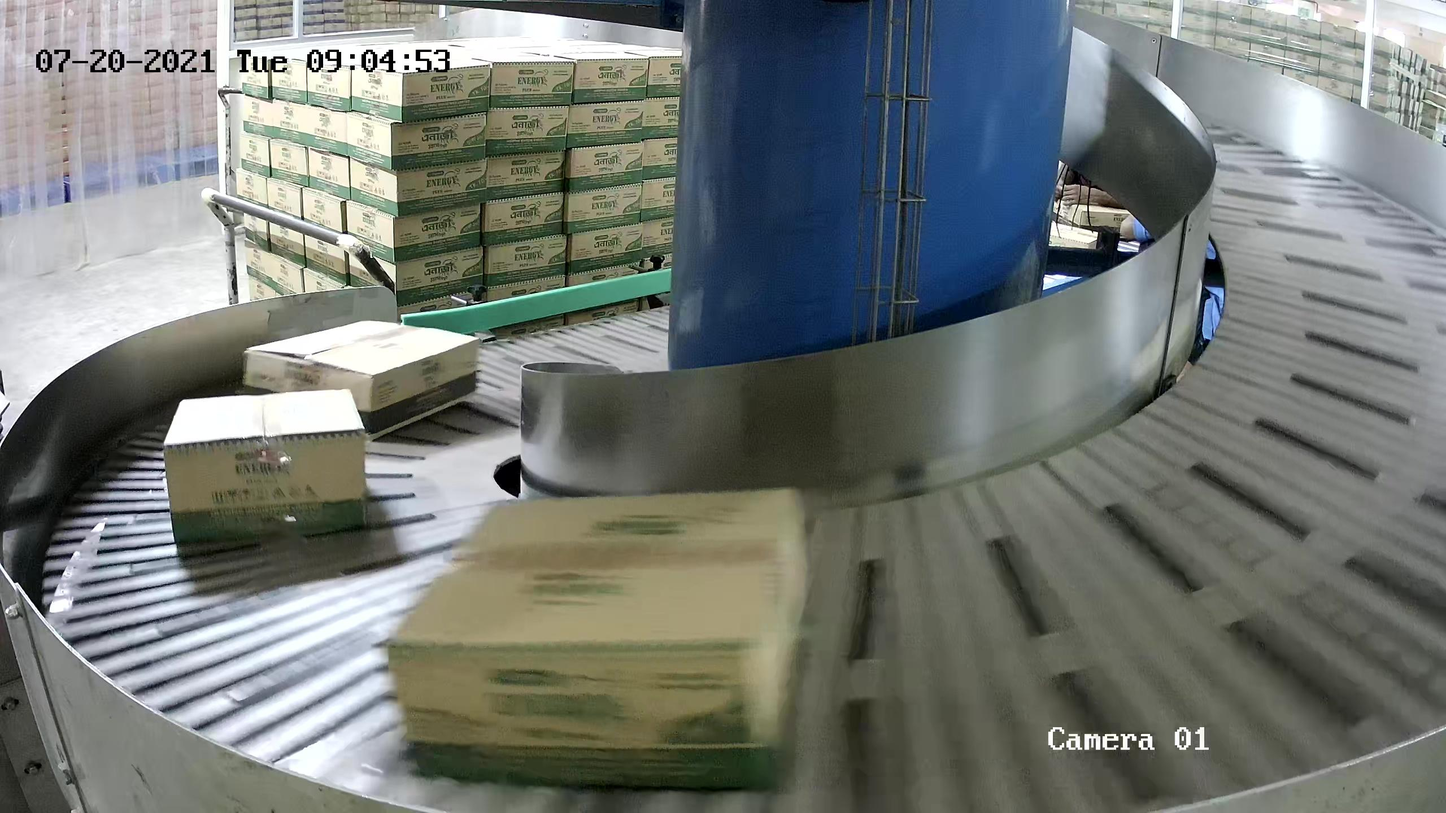Box: (385, 487, 814, 791), (164, 389, 368, 546), (243, 319, 482, 442)
